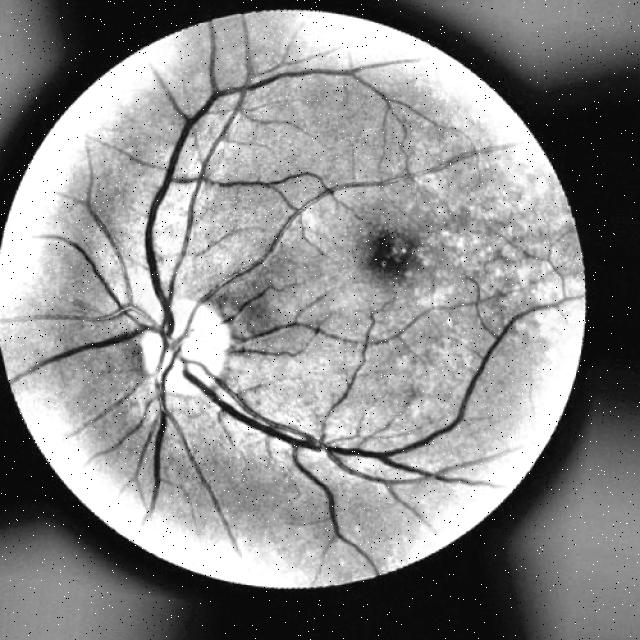Macula: (365, 228, 415, 281)
Nerves: (12, 72, 433, 562)
Optic Disk: (145, 306, 228, 396)
